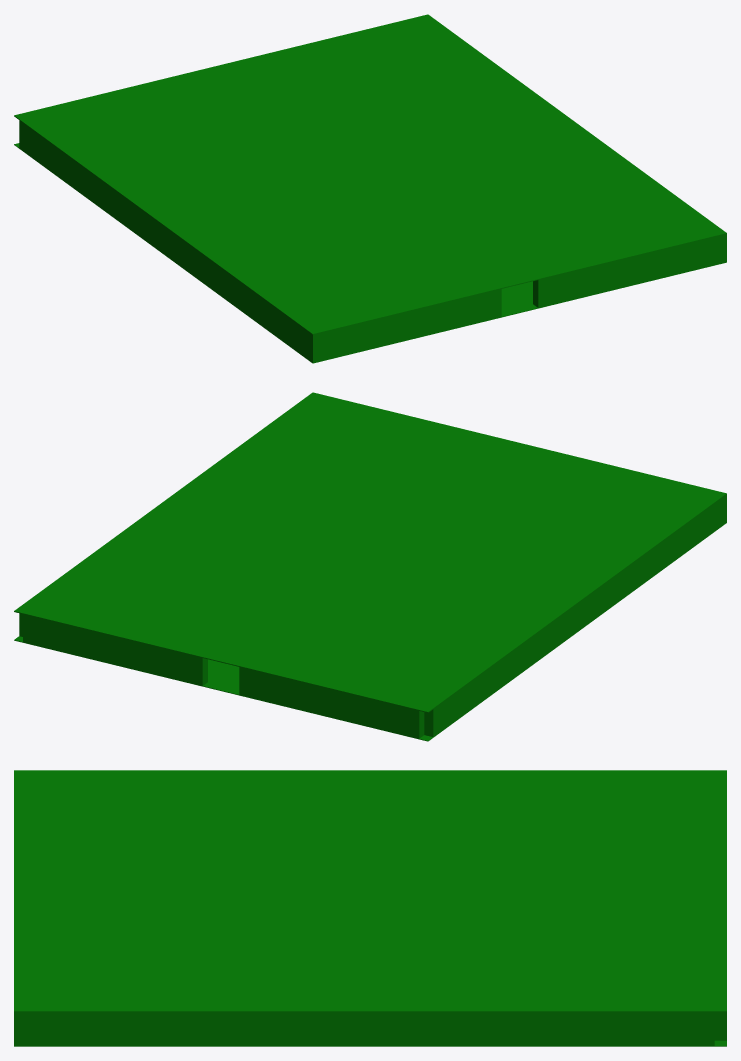
Rendered from Symmetrical Layout.obj.
3 views of the same model, one above another, from view 1: azimuth 30°, elevation 25°; view 2: azimuth 150°, elevation 25°; view 3: azimuth 270°, elevation 25° (orthographic). The views are drawn at different scales.
Parts seen in each view (by area): view 1: object_48, object_46, object_43, object_44, object_47; view 2: object_48, object_46, object_10, object_9, object_47; view 3: object_48, object_45, object_47.
Part boxes in pixels (box(x1,y1,x2,y2)): object_48: box(14, 14, 726, 334); object_46: box(19, 120, 321, 362); object_43: box(533, 236, 717, 307); object_44: box(321, 289, 501, 360); object_47: box(14, 143, 726, 363); object_48: box(14, 392, 726, 712); object_46: box(424, 494, 726, 736); object_10: box(239, 667, 424, 738); object_9: box(23, 614, 207, 685); object_47: box(14, 522, 726, 741); object_48: box(14, 770, 726, 1012); object_45: box(14, 1012, 714, 1045); object_47: box(14, 1040, 726, 1046).
Size of the model in its own units: 41.82 by 2.84 by 52.26.
